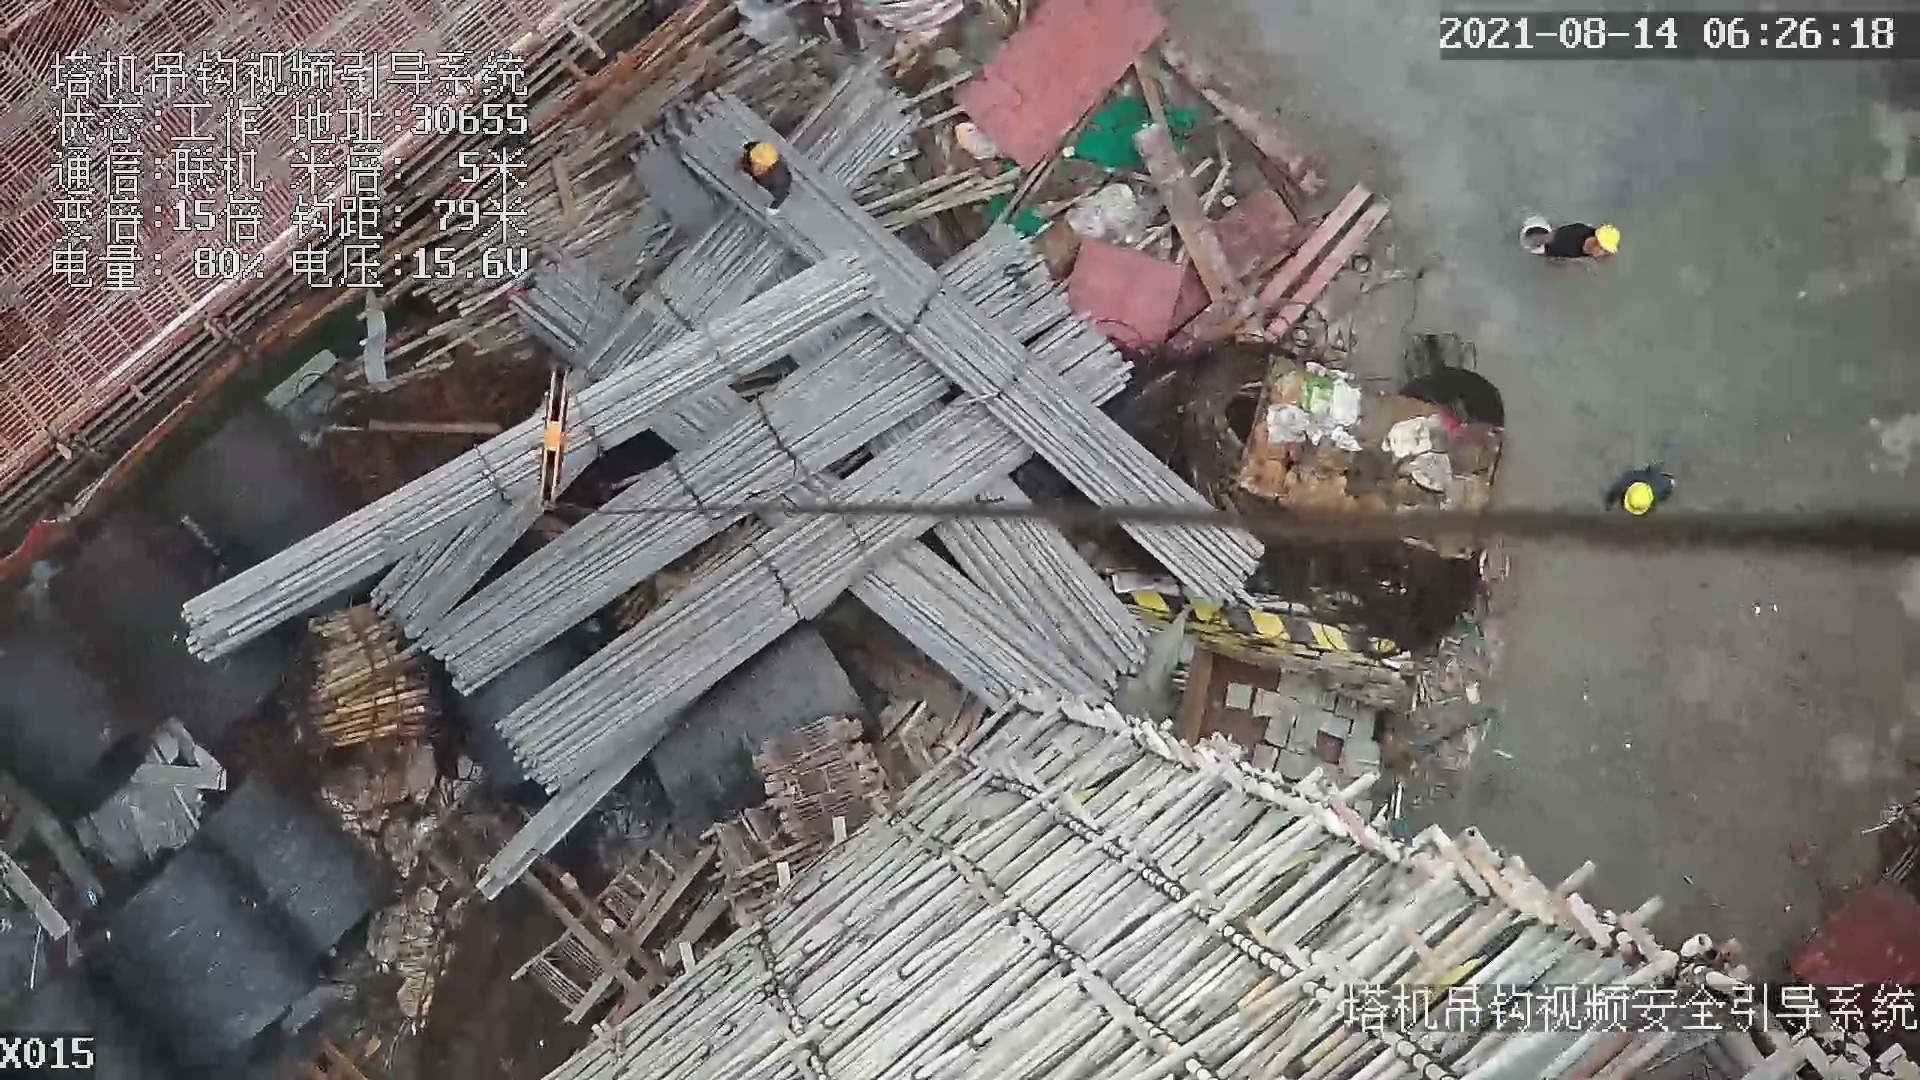helmet: (1623, 480, 1659, 516), (748, 139, 780, 175), (1597, 217, 1619, 258)
hook: (527, 358, 586, 513)
person: (1508, 205, 1626, 273), (1591, 463, 1672, 521), (740, 141, 800, 212)
